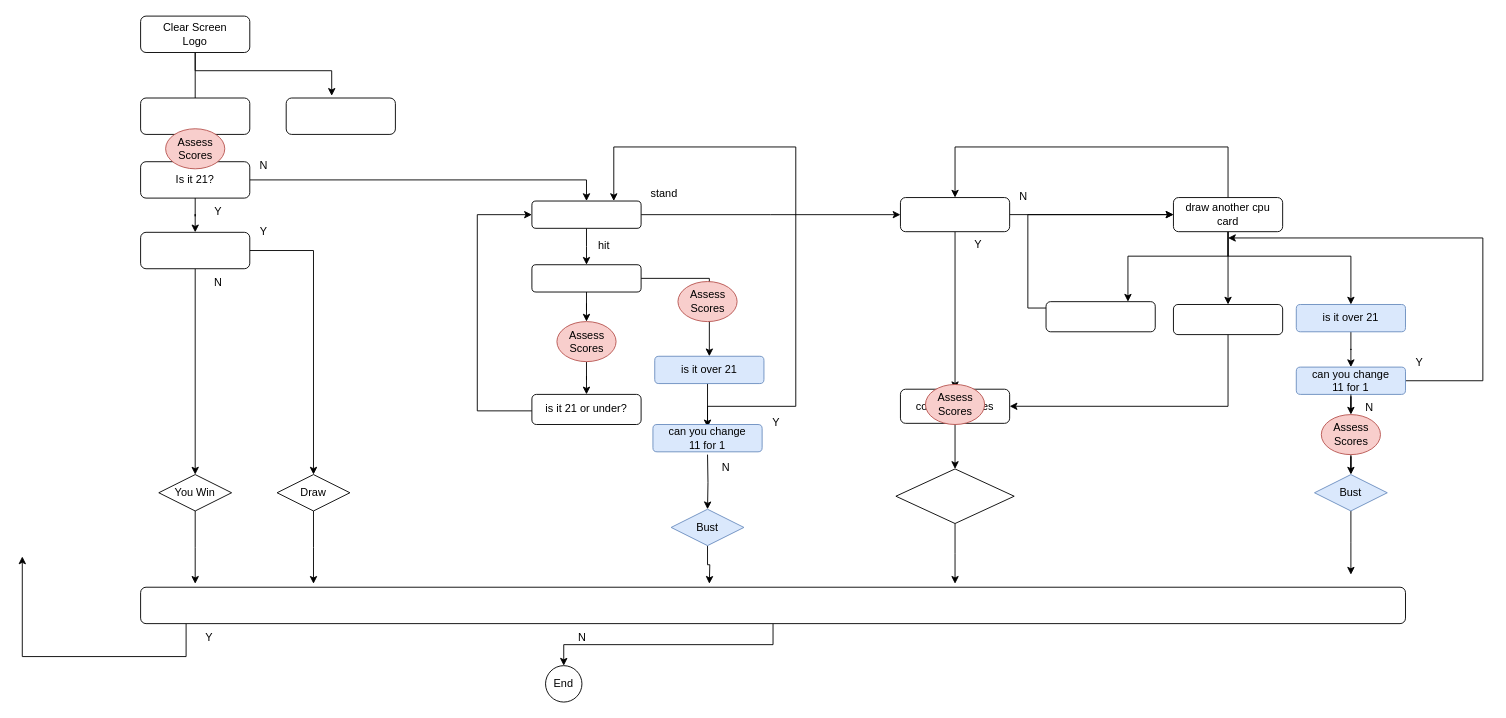
Some shapes in this 1506 by 718 pixel diagram are drawn without their labels. The centre of each missing label's shape, as x and y in pixels:
"Deal 2 cards to cpu" belongs at point (340, 115).
"Deal 2 cards to player 1" belongs at point (195, 115).
"Declare winner" belongs at point (954, 496).
"Do you want to replay?" belongs at point (772, 605).
"get another card" belongs at point (586, 278).
"hit or stand?" belongs at point (586, 214).
"Is cpu 17-21?" belongs at point (955, 214).
"Is cpu score 21?" belongs at point (195, 250).
"is it 17-21" belongs at point (1228, 319).
"is it under 17?" belongs at point (1100, 316).
